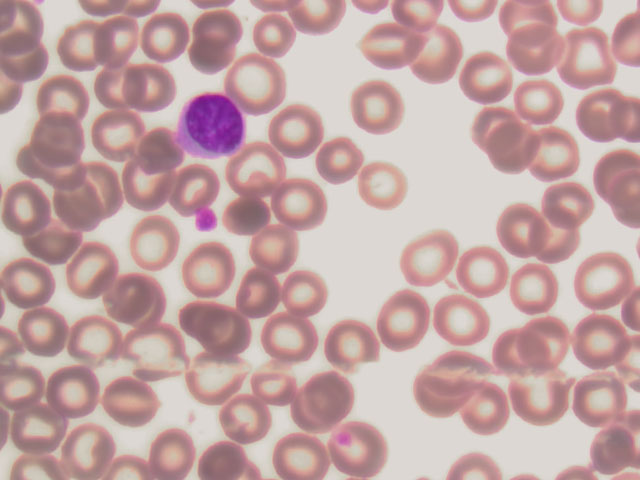Platelets: (194, 205, 220, 231)
RBC: (556, 26, 624, 98), (505, 16, 573, 88), (572, 74, 640, 146), (348, 78, 407, 136), (359, 155, 418, 213), (310, 134, 369, 192), (269, 103, 328, 161), (226, 139, 285, 197), (271, 174, 330, 232), (220, 187, 279, 245), (241, 217, 300, 275), (277, 263, 336, 321), (231, 265, 290, 323), (178, 241, 237, 299), (129, 215, 188, 273), (167, 153, 226, 211), (121, 159, 180, 217), (127, 124, 186, 182), (89, 102, 148, 160), (87, 58, 146, 116), (121, 60, 180, 118), (140, 9, 199, 67), (90, 10, 149, 68), (54, 16, 113, 74), (31, 64, 90, 122), (27, 110, 86, 168), (17, 136, 76, 194), (50, 161, 109, 219), (1, 180, 60, 238), (22, 210, 81, 268), (58, 240, 117, 298), (101, 269, 160, 327), (66, 315, 125, 373), (21, 303, 80, 361), (2, 252, 61, 310), (45, 363, 104, 421), (11, 396, 70, 454), (59, 422, 118, 480), (103, 371, 162, 429), (131, 322, 190, 380), (181, 296, 240, 354), (189, 345, 248, 403), (207, 389, 266, 447), (143, 422, 202, 480), (247, 353, 306, 411), (259, 309, 318, 367), (319, 315, 378, 373), (298, 374, 357, 432), (332, 418, 391, 476), (268, 422, 327, 480), (406, 367, 465, 425), (426, 347, 485, 405), (435, 290, 494, 348), (380, 290, 439, 348), (399, 224, 458, 282), (457, 242, 516, 300), (506, 265, 565, 323), (522, 311, 581, 369), (486, 320, 545, 378), (458, 380, 517, 438), (507, 368, 566, 426), (565, 367, 624, 425), (568, 310, 627, 368), (573, 251, 632, 309), (487, 204, 546, 262), (531, 214, 590, 272), (538, 177, 597, 235), (528, 128, 587, 186), (495, 122, 554, 180), (461, 103, 520, 161), (507, 78, 566, 136), (463, 51, 522, 109), (421, 30, 480, 88), (350, 16, 409, 74), (243, 7, 302, 65), (186, 5, 245, 63), (236, 63, 295, 121), (582, 419, 640, 477)
WBC: (175, 90, 249, 155)
